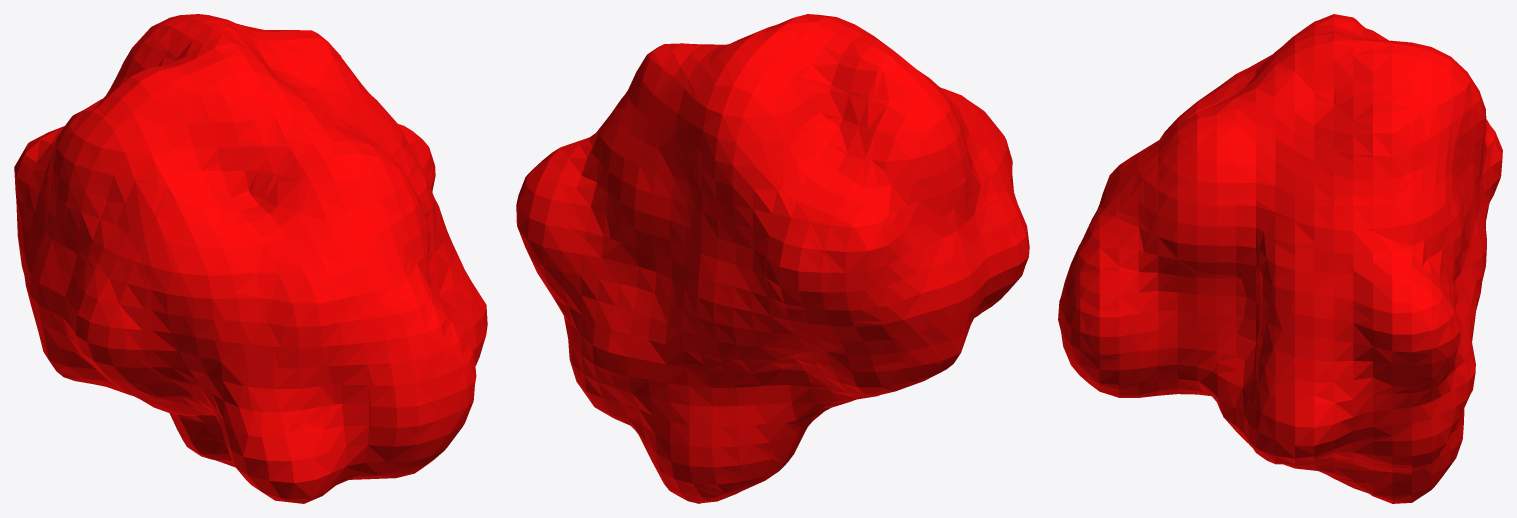
The model's file is argB_coarse.dae.
3 views of the same model, side by side, from view 1: azimuth 30°, elevation 25°; view 2: azimuth 150°, elevation 25°; view 3: azimuth 270°, elevation 25° (orthographic). The views are drawn at different scales.
Visible parts, largest first — view 1: argB; view 2: argB; view 3: argB.
Part boxes in pixels (x1,y1,x2,y2): argB: [14, 14, 487, 503]; argB: [516, 14, 1029, 503]; argB: [1058, 14, 1502, 503].
Bounding box in the file's own units: 50.08 × 52.68 × 49.22.
